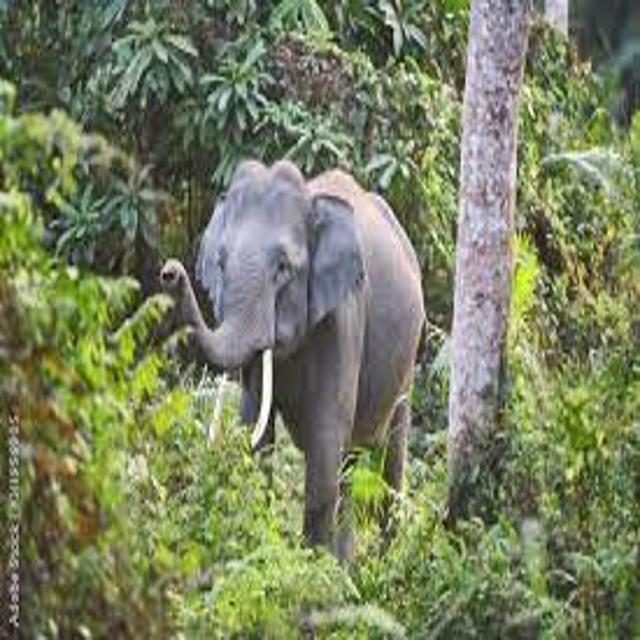Elephant: (152, 130, 452, 548)
